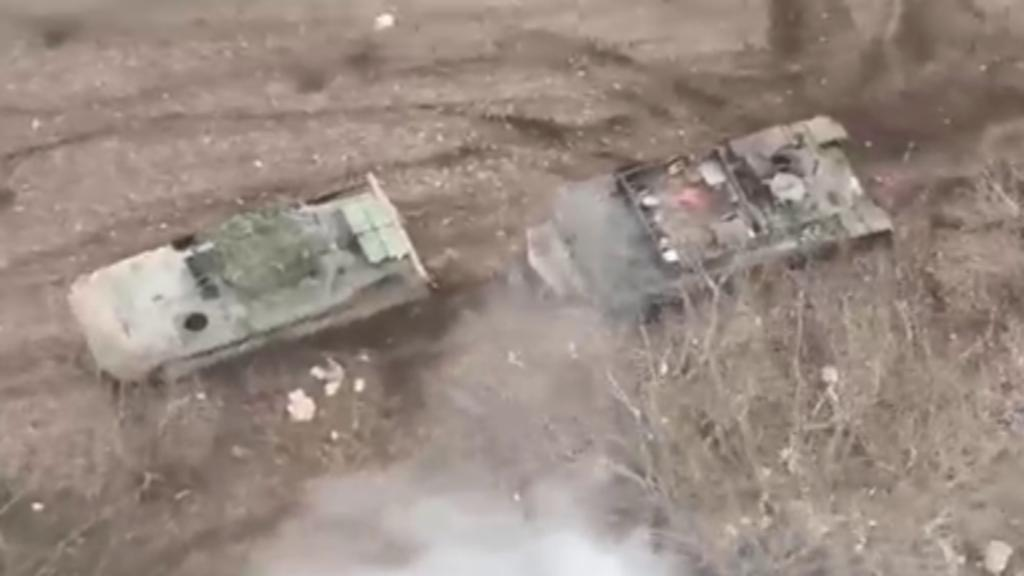APC-IFV: (52, 162, 444, 392), (512, 101, 898, 313)
